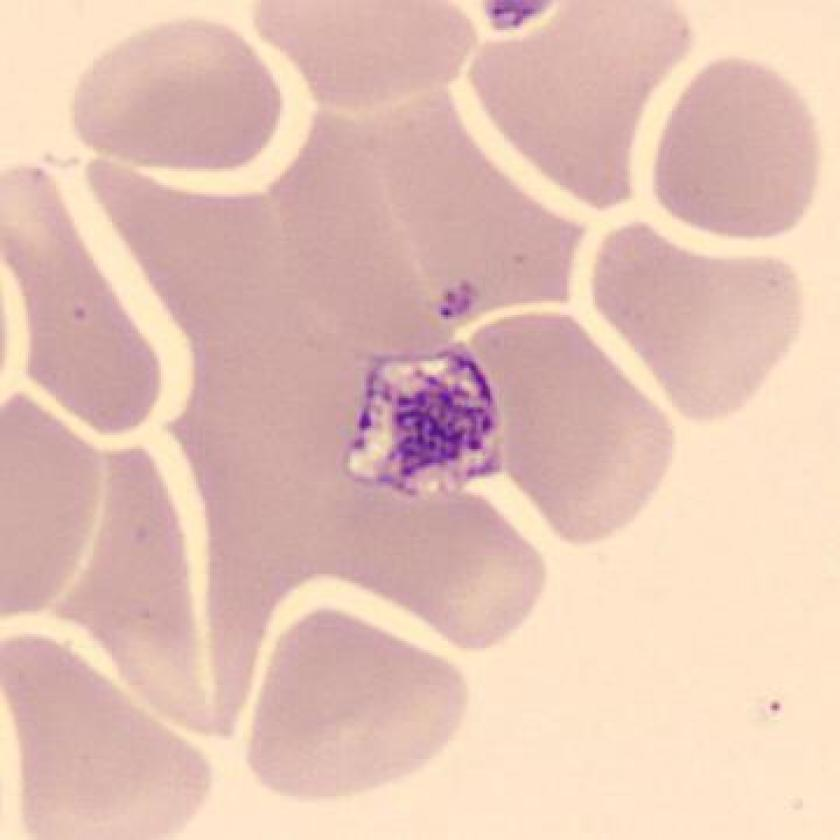platelets: (333, 339, 522, 505)
